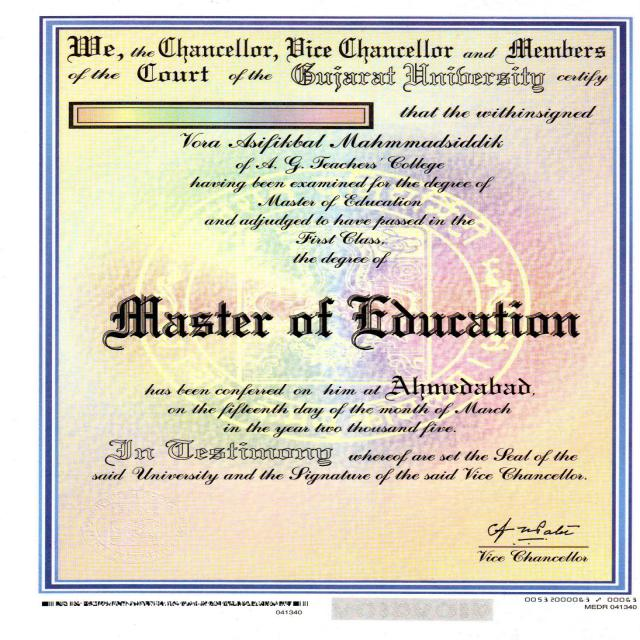degree: (93, 290, 584, 342)
signature: (487, 517, 588, 568)
